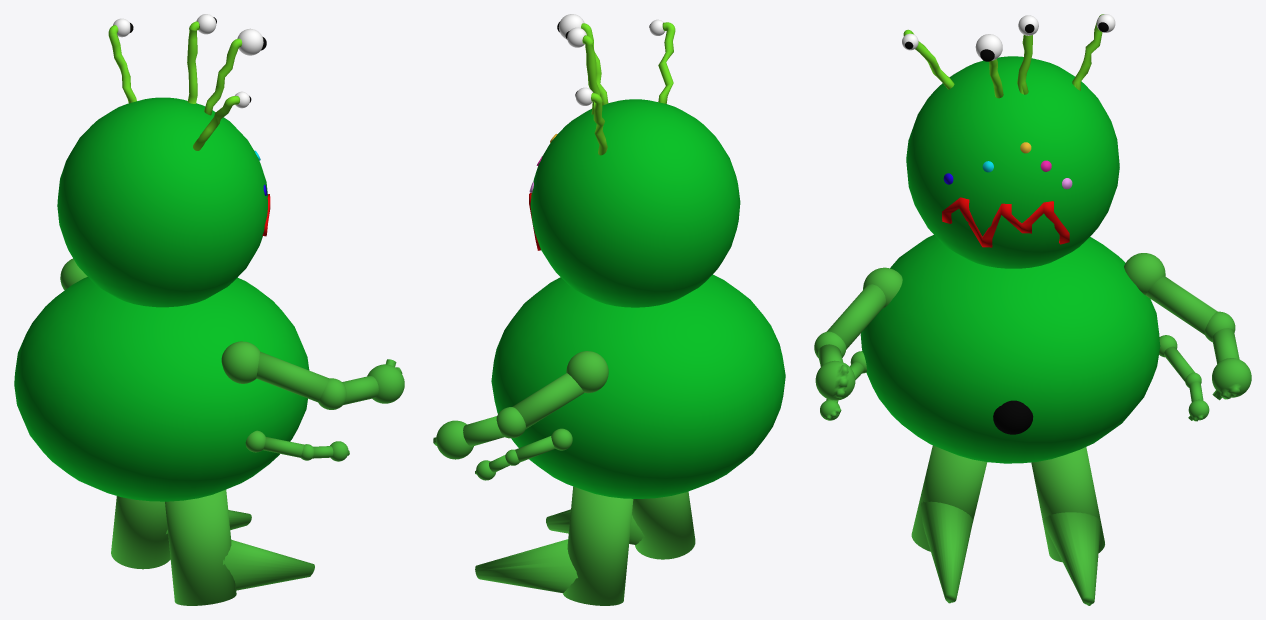
The model's file is elisamon.fbx.
3 renders of one model, left to right at view 1: azimuth 30°, elevation 25°; view 2: azimuth 150°, elevation 25°; view 3: azimuth 270°, elevation 25°, orthographic.
Parts seen in each view (by area): view 1: Elisa; view 2: Elisa; view 3: Elisa.
Part boxes in pixels (<box>): Elisa: <box>14,14,404,605</box>; Elisa: <box>433,14,785,605</box>; Elisa: <box>814,14,1251,605</box>.
Bounding box in the file's own units: 123 × 93.18 × 172.
